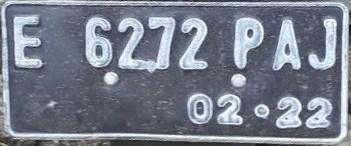clone-license-plate: (0, 0, 347, 143)
